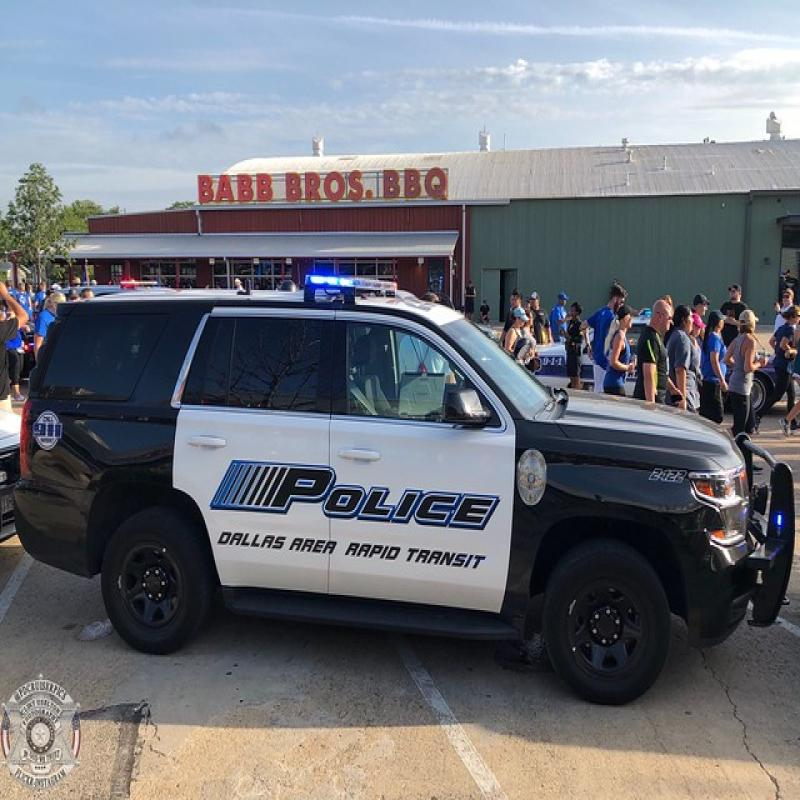AmbulanceSiren: (289, 252, 424, 309)
